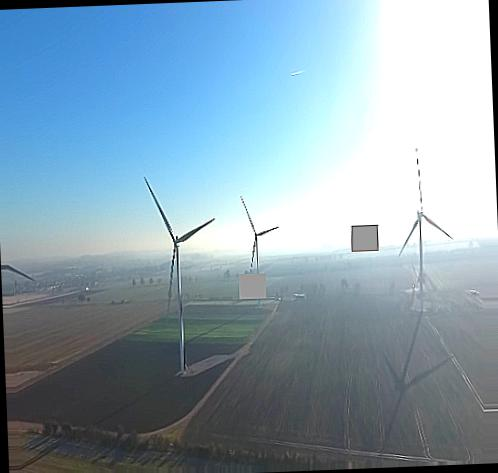wind turbine: (143, 175, 216, 374), (397, 146, 454, 288), (242, 193, 279, 295)
